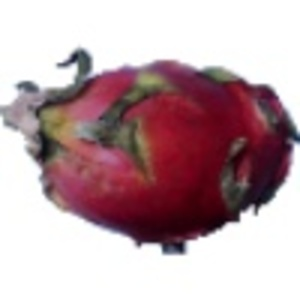pitaia: (1, 48, 300, 257)
